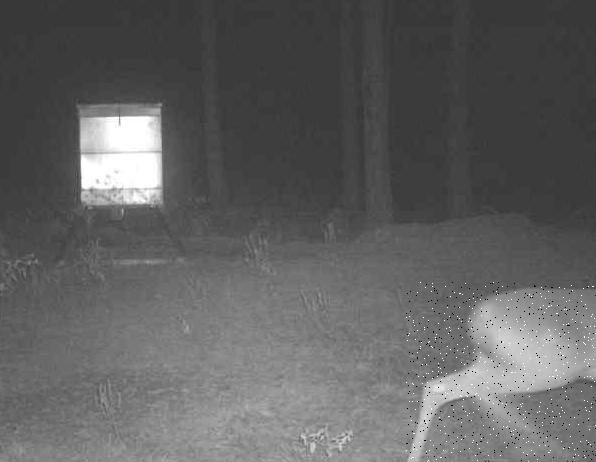Deer: (406, 282, 596, 462)
